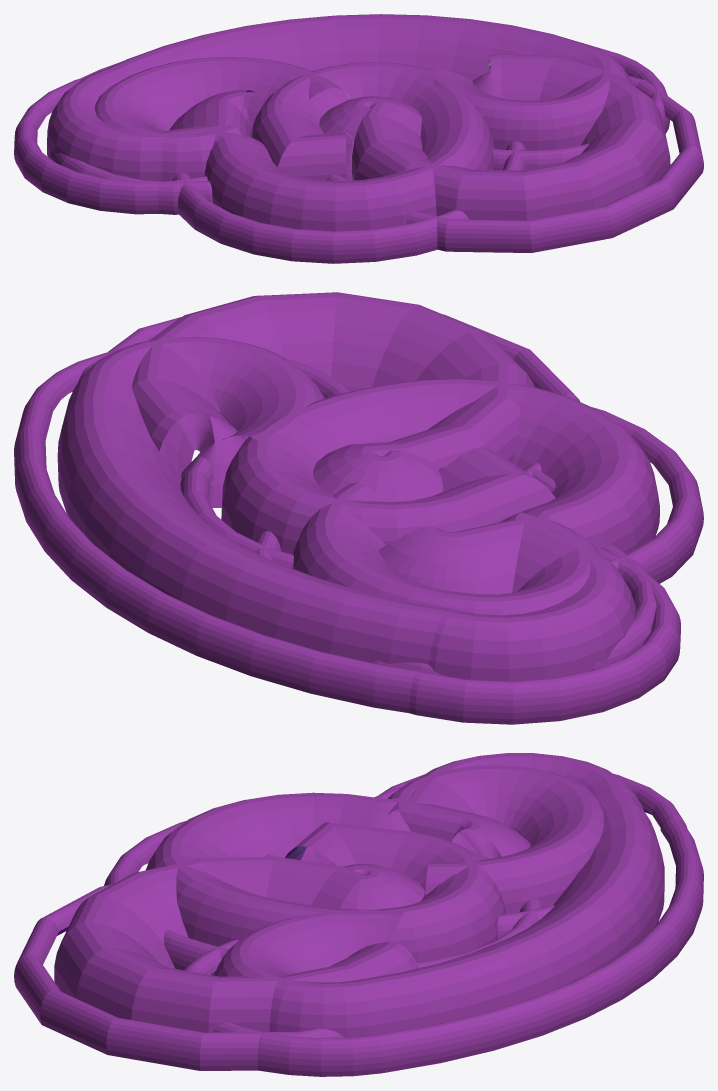
Rendered from purple.obj.
3 views of the same model, one above another, from view 1: azimuth 30°, elevation 25°; view 2: azimuth 150°, elevation 25°; view 3: azimuth 270°, elevation 25° (orthographic). The views are drawn at different scales.
Parts seen in each view (by area): view 1: Group_004; view 2: Group_004; view 3: Group_004.
Part boxes in pixels (x1,y1,x2,y2): Group_004: [14, 14, 703, 263]; Group_004: [14, 292, 703, 724]; Group_004: [14, 753, 703, 1076].
Bounding box in the file's own units: 0.4497 × 0.0576 × 0.4179.
1 material, 1 textured.
